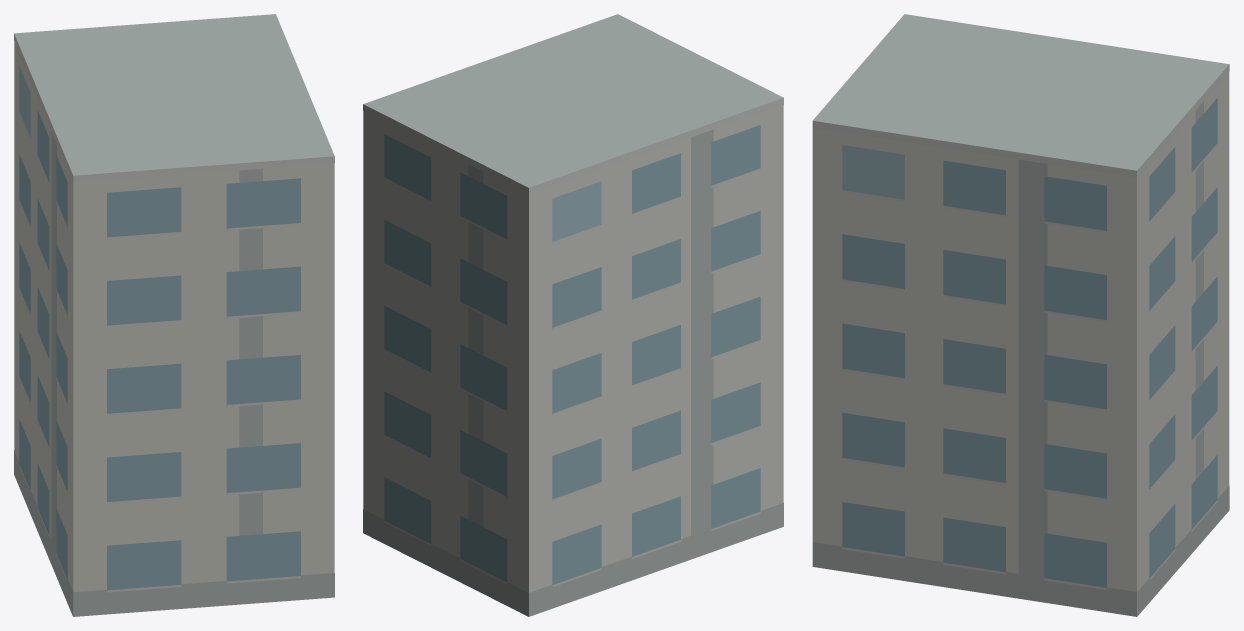
The model's file is residential-de29f574-0df1-4ac2-a9b2-40c0569347ab.glb.
The picture shows the model from 3 angles, left to right: view 1: azimuth 30°, elevation 25°; view 2: azimuth 150°, elevation 25°; view 3: azimuth 270°, elevation 25°; orthographic projection. The views are drawn at different scales.
Parts seen in each view (by area): view 1: residential-de29f574-0df1-4ac2-a9b2-40c0569347ab.tmp; view 2: residential-de29f574-0df1-4ac2-a9b2-40c0569347ab.tmp; view 3: residential-de29f574-0df1-4ac2-a9b2-40c0569347ab.tmp.
Boxes of the visible parts, x1,y1,x2,y2 form: residential-de29f574-0df1-4ac2-a9b2-40c0569347ab.tmp: (14,14,334,616); residential-de29f574-0df1-4ac2-a9b2-40c0569347ab.tmp: (363,14,783,616); residential-de29f574-0df1-4ac2-a9b2-40c0569347ab.tmp: (812,14,1229,616).
Size of the model in its own units: 11.5 by 15.25 by 12.92.
